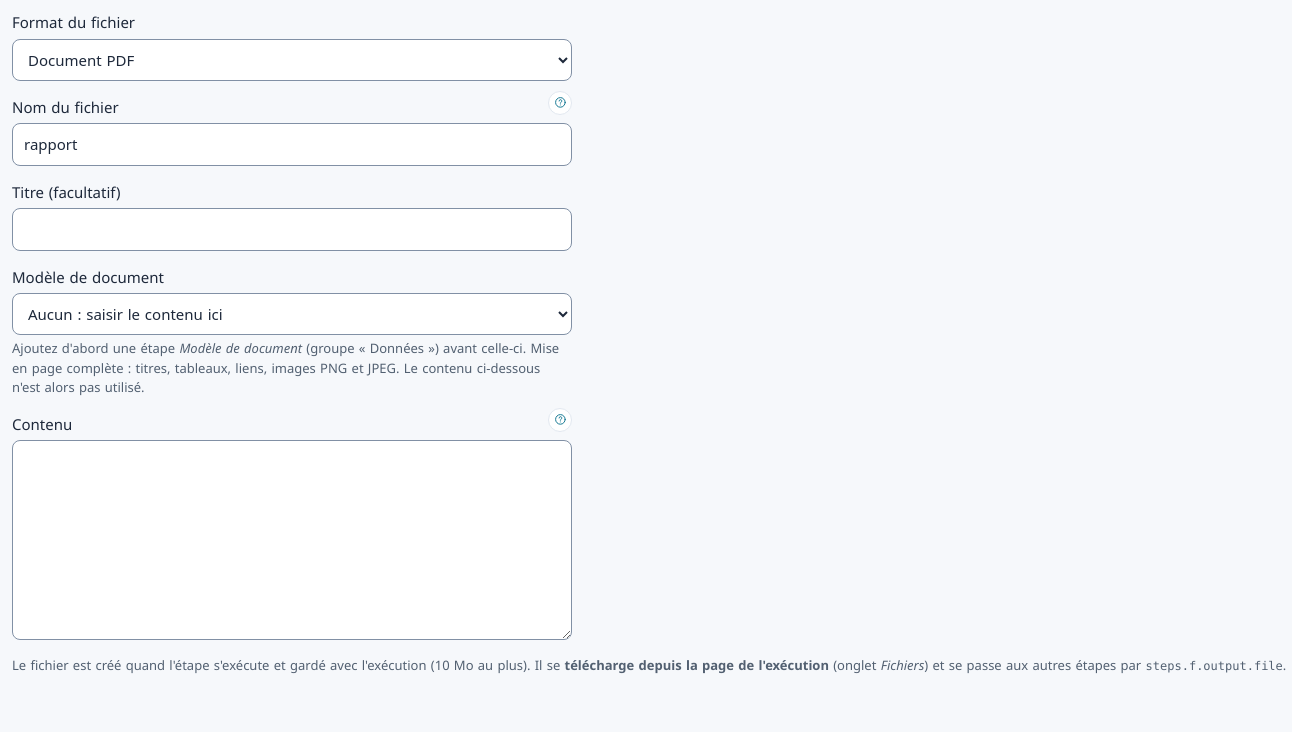
Créer un fichier › montre les bons champs selon le format
The width and height of the screenshot is (1292, 732).
expect the text box labelled "Contenu" is shown: met, box [12,440,572,640]
expect the field labelled "Titre (facultatif)" is shown: met, box [12,208,572,250]
Select "Présentation PowerPoint (.pptx)" in the dropdown labelled "Format du fichier" at (292, 60), box [12,38,572,80]
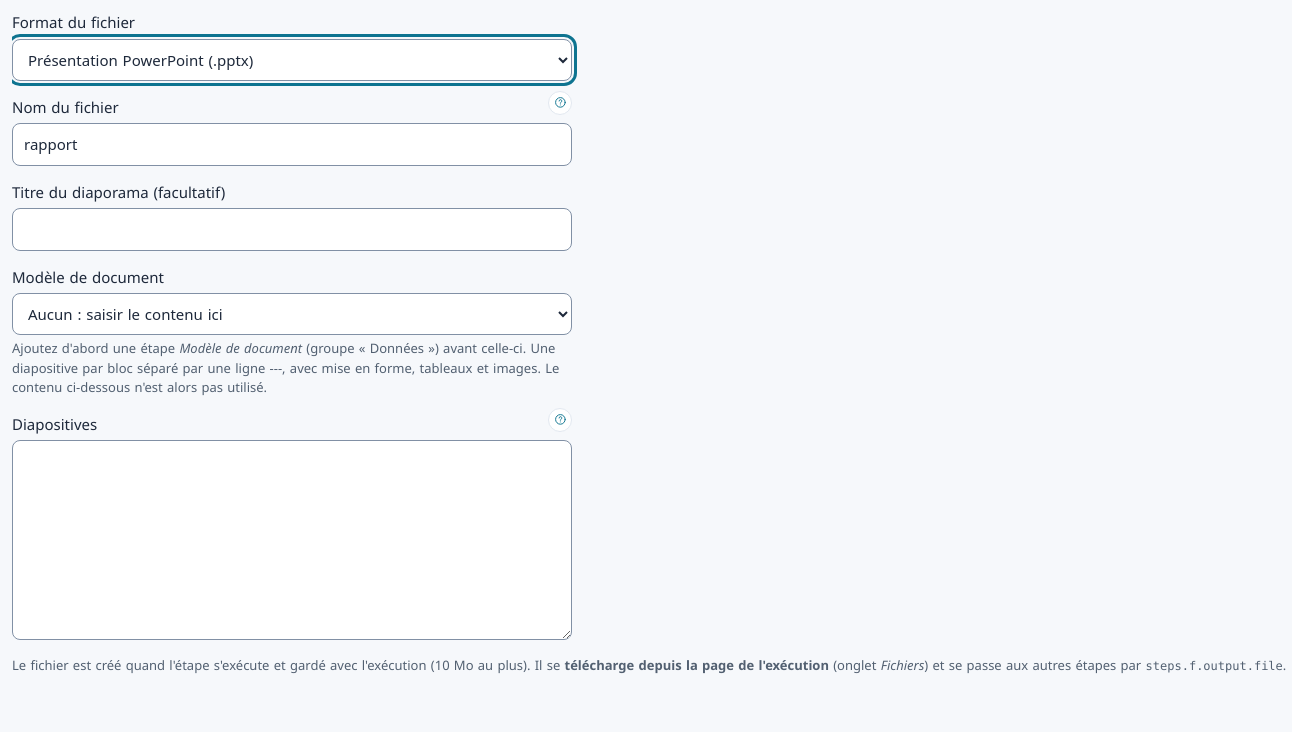
expect the text box labelled "Diapositives" is shown: met, box [12,440,572,640]
Select "Tableur Excel (.xlsx)" in the dropdown labelled "Format du fichier" at (292, 60), box [12,38,572,80]
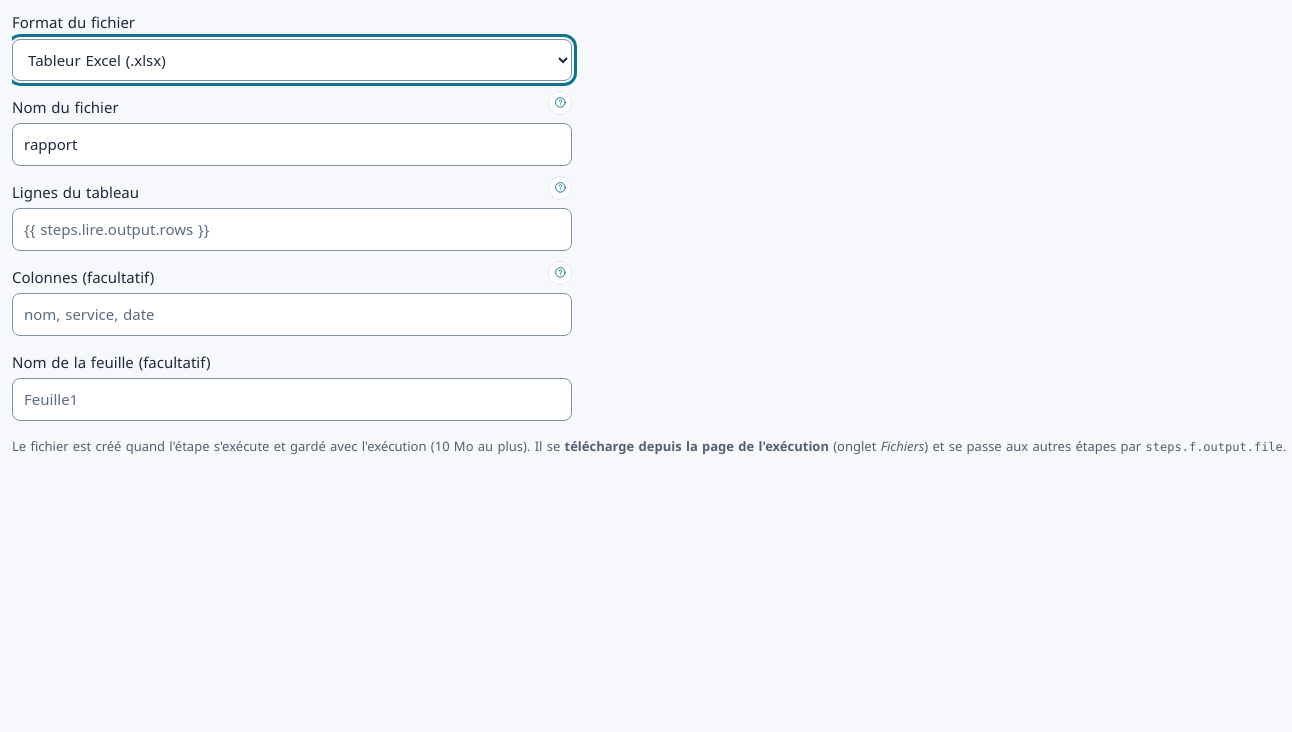
expect the field labelled "Lignes du tableau" is shown: met, box [12,208,572,250]
expect the field labelled "Nom de la feuille (facultatif)" is shown: met, box [12,378,572,420]
expect the field labelled "Contenu" is gone: met
Select "Archive ZIP" in the dropdown labelled "Format du fichier" at (292, 60), box [12,38,572,80]
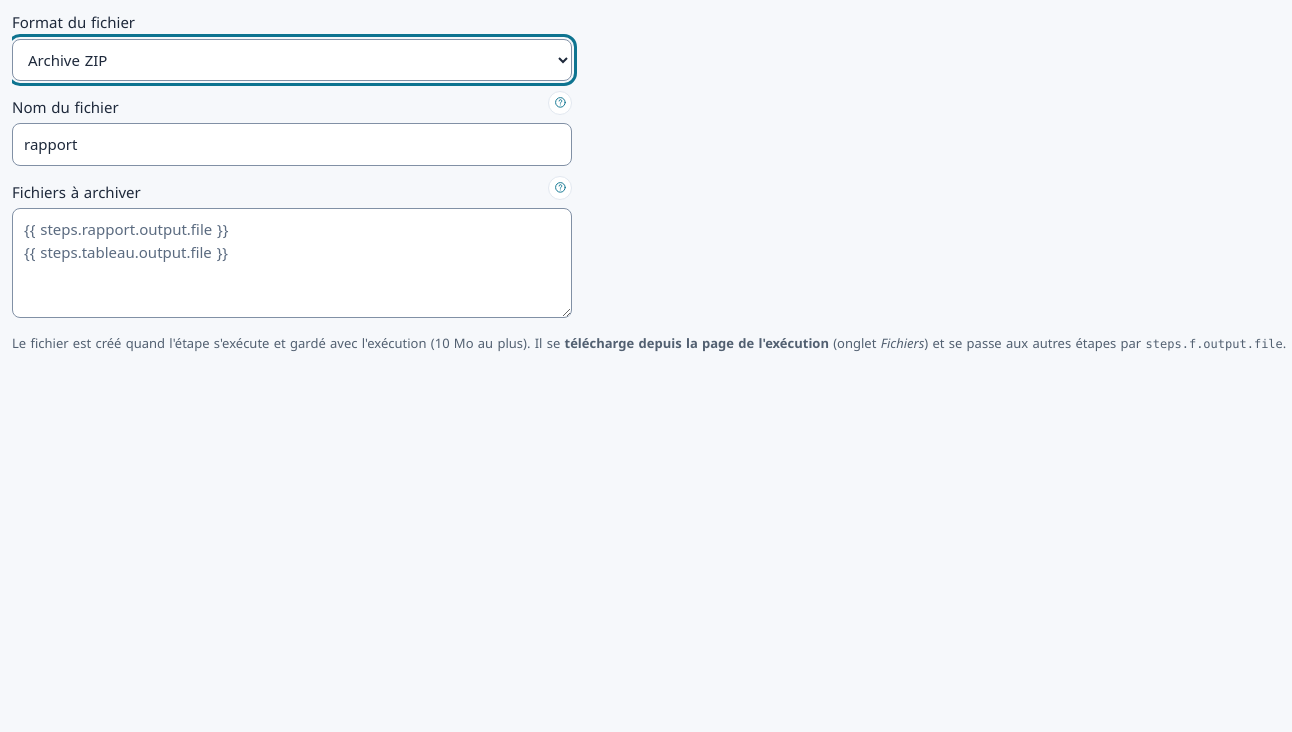
expect the text box labelled "Fichiers à archiver" is shown: met, box [12,208,572,318]
